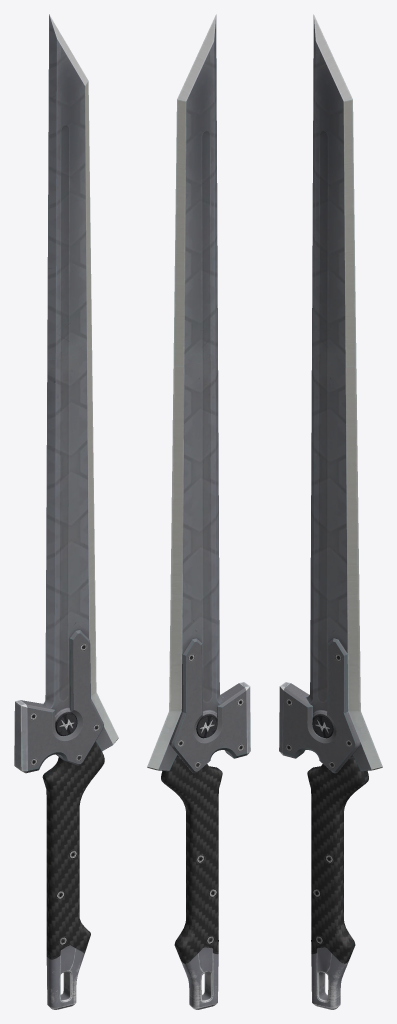
File: wpn_misc_0002_inner_scabbard.glb
The picture shows the model from 3 angles, left to right: view 1: azimuth 30°, elevation 25°; view 2: azimuth 210°, elevation 25°; view 3: azimuth 330°, elevation 25°; orthographic projection.
Visible parts, largest first — view 1: S_wpn_misc_0002_01_lod0; view 2: S_wpn_misc_0002_01_lod0; view 3: S_wpn_misc_0002_01_lod0.
Part boxes in pixels (box(x1,y1,x2,y2)): S_wpn_misc_0002_01_lod0: box(14, 14, 118, 1009); S_wpn_misc_0002_01_lod0: box(147, 14, 250, 1009); S_wpn_misc_0002_01_lod0: box(279, 14, 382, 1009).
Size of the model in its own units: 0.1346 by 1.27 by 0.028.
1 material, 1 textured.
